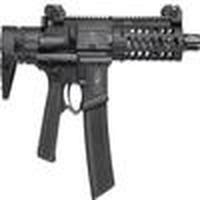gun: (1, 8, 200, 152)
